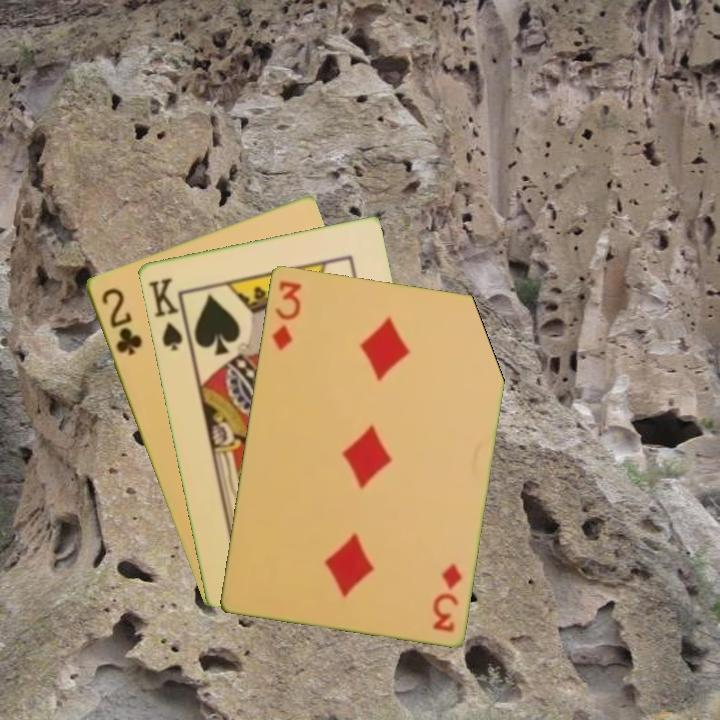2c: (97, 284, 145, 358)
3d: (428, 560, 465, 635), (268, 276, 303, 353)
Ks: (145, 274, 192, 353)
